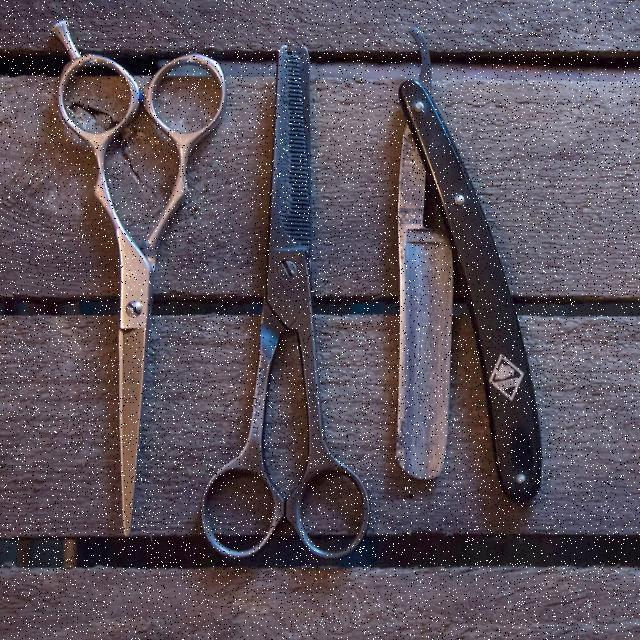scissors: (42, 8, 228, 543), (200, 34, 374, 566)
